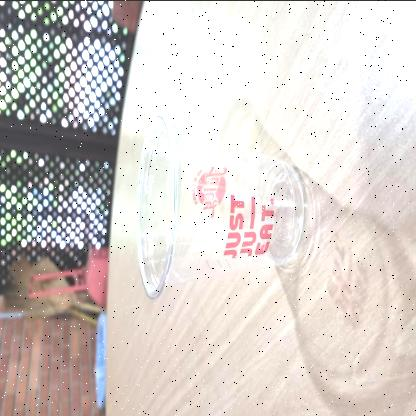Others: (131, 101, 313, 303)
